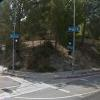Tree: (23, 0, 94, 59)
